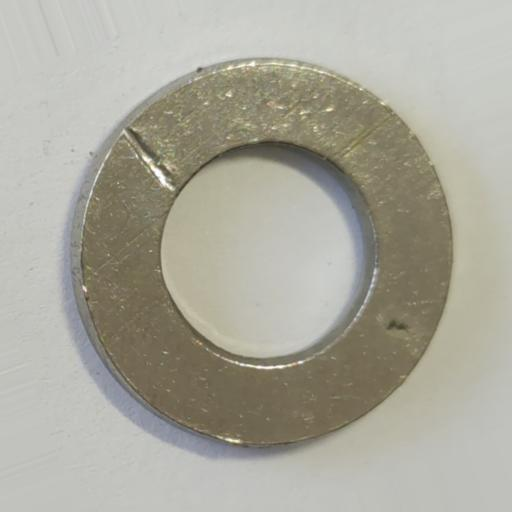scratch: (122, 126, 177, 189)
